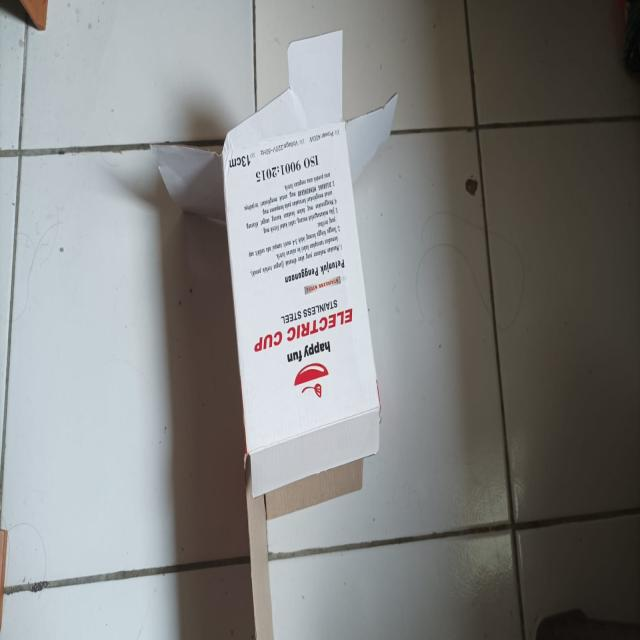Organik: (150, 31, 396, 640)
